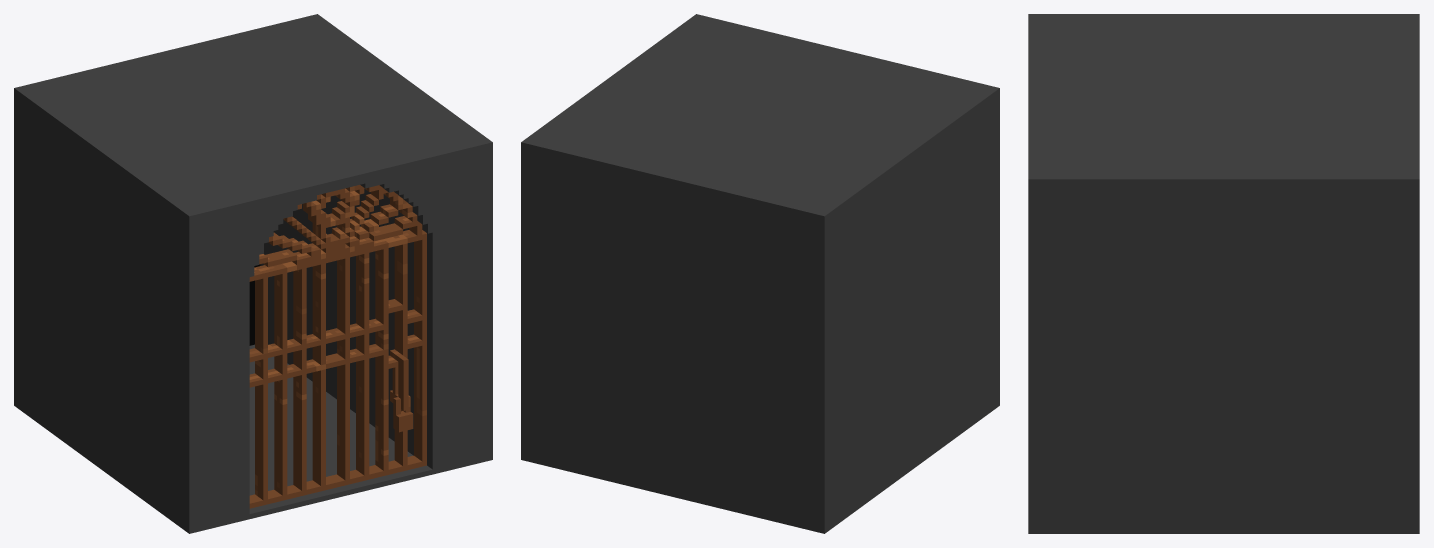
File: door-5.obj
The picture shows the model from 3 angles, left to right: view 1: azimuth 30°, elevation 25°; view 2: azimuth 150°, elevation 25°; view 3: azimuth 270°, elevation 25°; orthographic projection. The views are drawn at different scales.
Parts seen in each view (by area): view 1: door-5; view 2: door-5; view 3: door-5.
Boxes of the visible parts, x1,y1,x2,y2 form: door-5: (14,14,492,533); door-5: (521,14,999,533); door-5: (1028,14,1419,533).
Size of the model in its own units: 126 by 126 by 126.
1 material, 1 textured.
